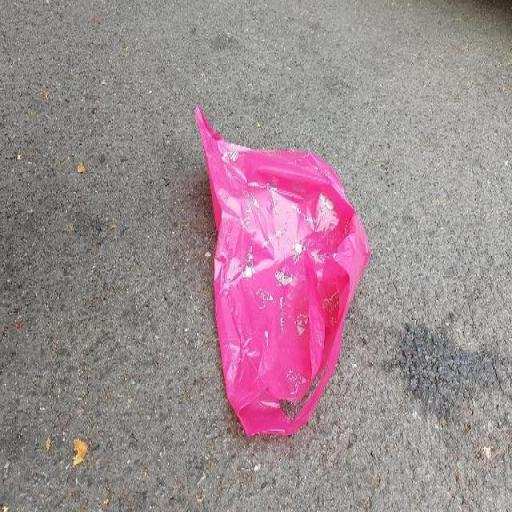plastic-bag: (194, 103, 372, 441)
